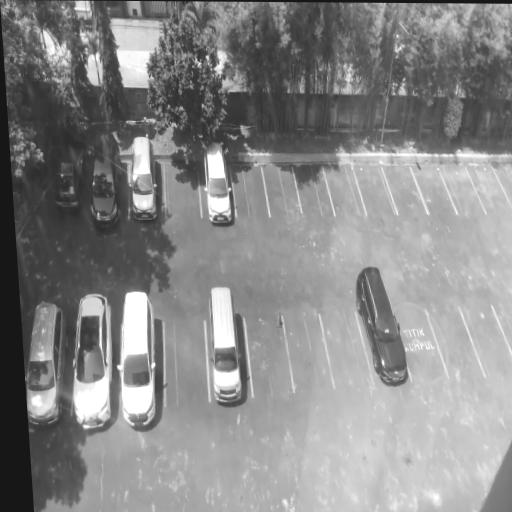Car: (349, 261, 412, 390), (69, 290, 115, 432), (116, 288, 158, 432), (28, 300, 69, 431), (208, 283, 246, 411), (88, 130, 123, 231), (201, 139, 237, 226), (52, 135, 90, 213), (129, 134, 161, 226)
Space Available: (320, 310, 374, 391), (282, 312, 333, 394), (244, 314, 294, 396), (428, 307, 485, 377), (163, 318, 209, 403), (396, 310, 449, 382), (460, 305, 512, 376), (438, 164, 486, 212), (353, 164, 399, 214), (410, 165, 457, 213), (324, 165, 367, 217), (261, 164, 302, 218), (165, 158, 202, 217), (232, 162, 270, 219), (293, 166, 336, 216), (467, 165, 512, 211), (383, 167, 428, 212), (492, 307, 512, 353), (494, 165, 512, 204)
